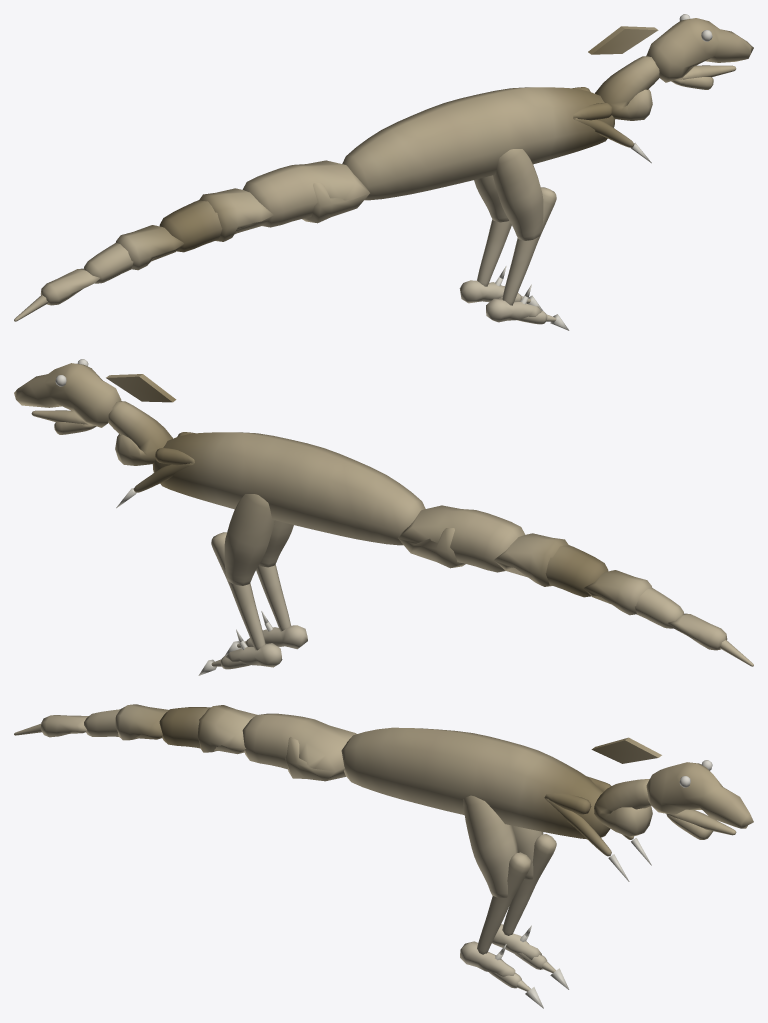
The model's file is raptor.glb.
The picture shows the model from 3 angles, top to bottom: view 1: azimuth 30°, elevation 25°; view 2: azimuth 150°, elevation 25°; view 3: azimuth 330°, elevation 25°; orthographic projection.
Visible parts, largest first — view 1: bodym, tailm1, tailm2, headm, thighmR, tailm3, neckm, shinmR, tailm4, shinmL, crestm, armmR (+4 smaller); view 2: bodym, tailm1, tailm2, headm, thighmL, tailm3, neckm, shinmL, tailm4, shinmR, crestm, armmL (+4 smaller); view 3: bodym, tailm1, headm, tailm2, thighmR, neckm, tailm3, shinmR, shinmL, armmR, jawm, crestm (+4 smaller).
Part boxes in pixels (left/top/right/bottom): bodym: left=342, top=87, right=615, bottom=200; tailm1: left=242, top=160, right=369, bottom=227; tailm2: left=159, top=188, right=274, bottom=252; headm: left=646, top=18, right=753, bottom=82; thighmR: left=493, top=149, right=543, bottom=240; tailm3: left=84, top=225, right=183, bottom=283; neckm: left=595, top=56, right=659, bottom=120; shinmR: left=502, top=187, right=556, bottom=305; tailm4: left=14, top=268, right=99, bottom=321; shinmL: left=477, top=219, right=511, bottom=286; crestm: left=588, top=26, right=658, bottom=54; armmR: left=573, top=103, right=634, bottom=147; bodym: left=152, top=432, right=425, bottom=545; tailm1: left=398, top=505, right=525, bottom=572; tailm2: left=494, top=533, right=608, bottom=597; headm: left=14, top=363, right=121, bottom=427; thighmL: left=224, top=494, right=274, bottom=585; tailm3: left=583, top=570, right=683, bottom=628; neckm: left=108, top=401, right=172, bottom=465; shinmL: left=211, top=532, right=265, bottom=650; tailm4: left=668, top=613, right=753, bottom=666; shinmR: left=256, top=564, right=290, bottom=631; crestm: left=106, top=374, right=176, bottom=402; armmL: left=133, top=448, right=194, bottom=492; bodym: left=341, top=727, right=610, bottom=839; tailm1: left=242, top=713, right=356, bottom=781; headm: left=646, top=762, right=753, bottom=828; tailm2: left=159, top=705, right=257, bottom=754; thighmR: left=463, top=795, right=517, bottom=897; neckm: left=594, top=779, right=652, bottom=836; tailm3: left=84, top=704, right=168, bottom=740; shinmR: left=477, top=852, right=531, bottom=954; shinmL: left=502, top=834, right=556, bottom=935; armmR: left=544, top=793, right=611, bottom=856; jawm: left=666, top=809, right=736, bottom=839; crestm: left=591, top=737, right=661, bottom=763.
Bounding box in the file's own units: 5.73 × 2.04 × 0.6215.
